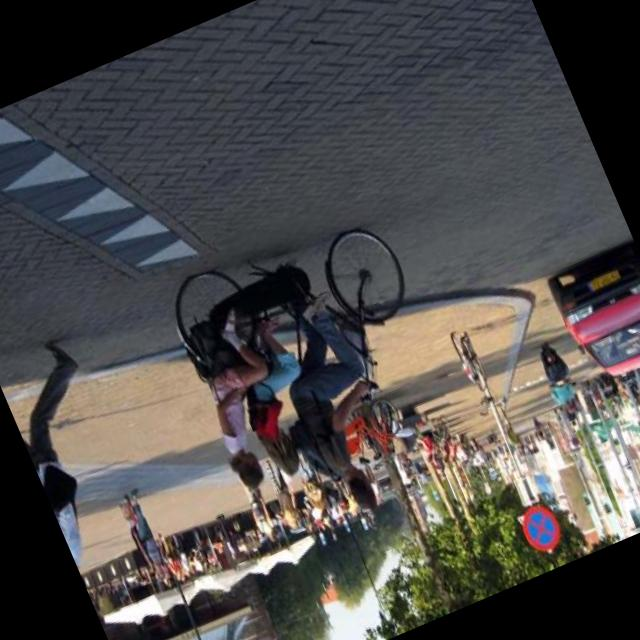bareface: (337, 460, 388, 520)
